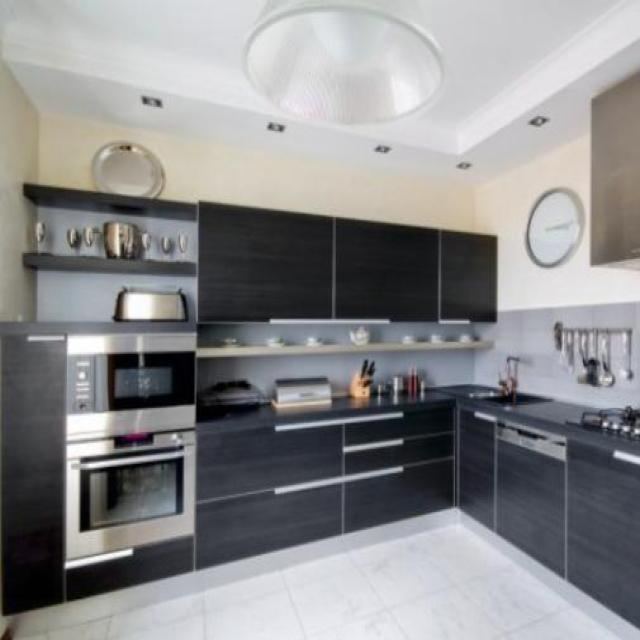dishwasher: (494, 416, 565, 584)
